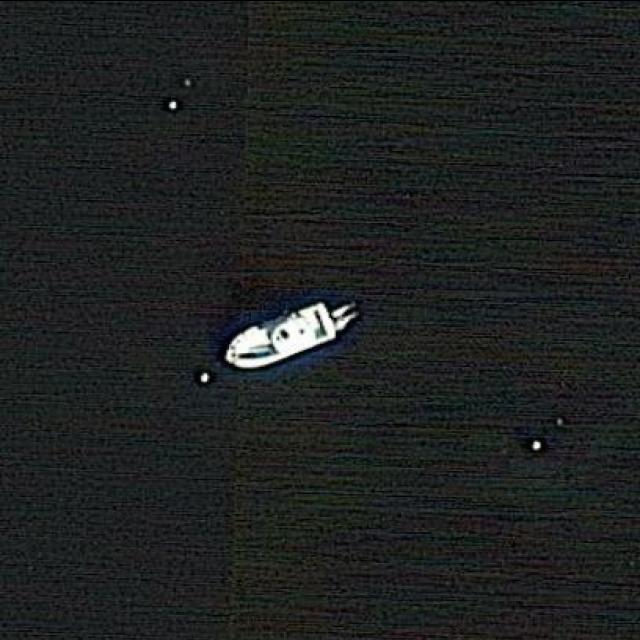ship: (223, 296, 361, 372)
